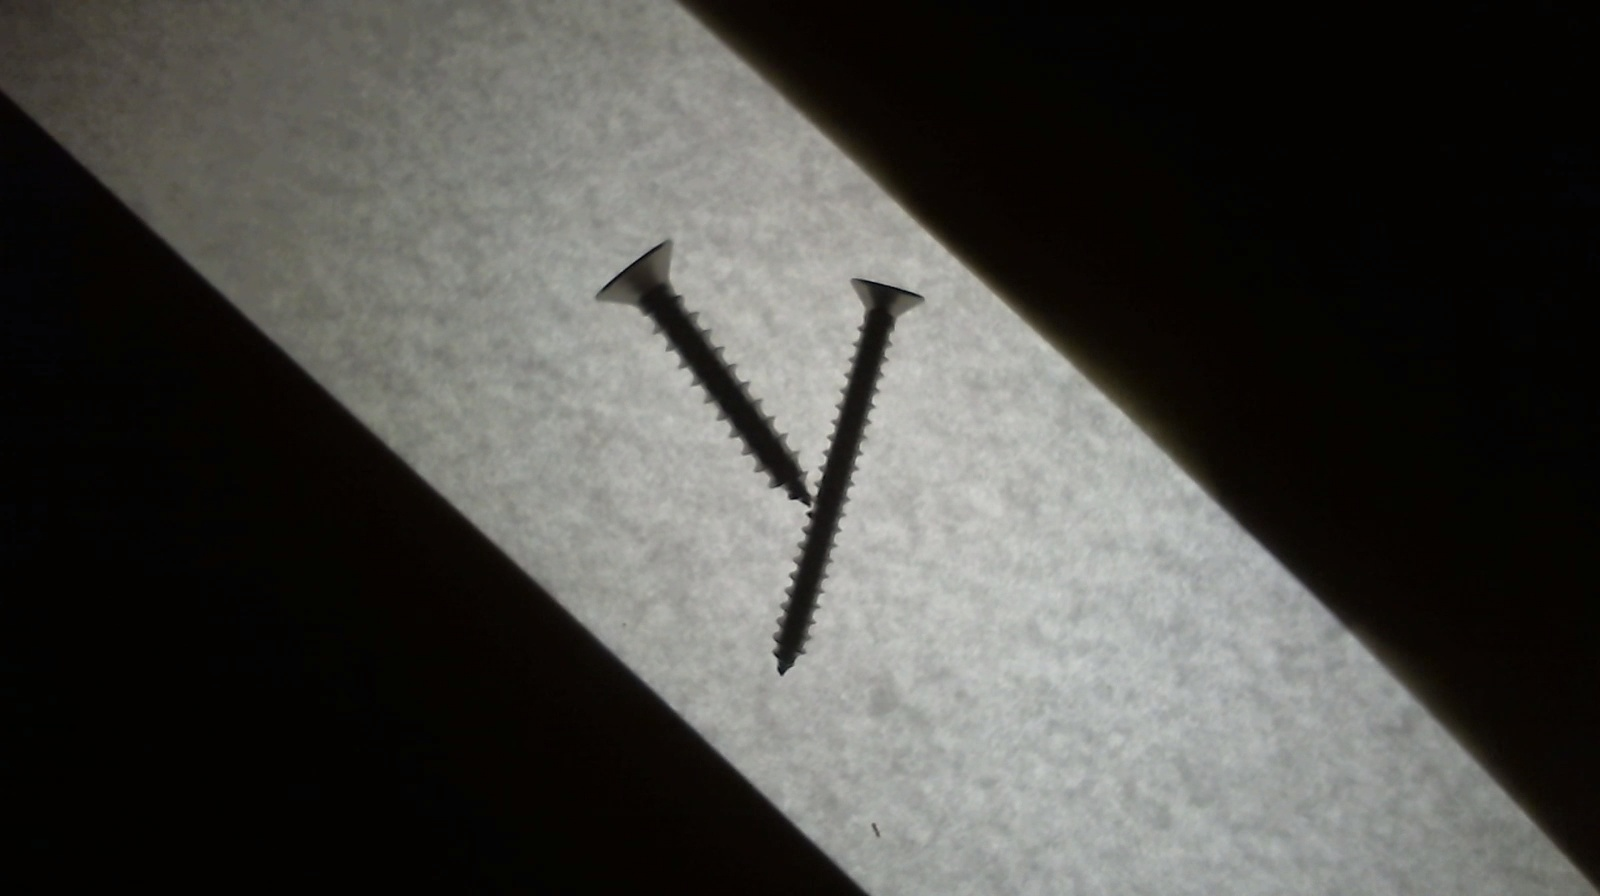S001: (585, 229, 820, 512)
S002: (762, 274, 931, 678)
